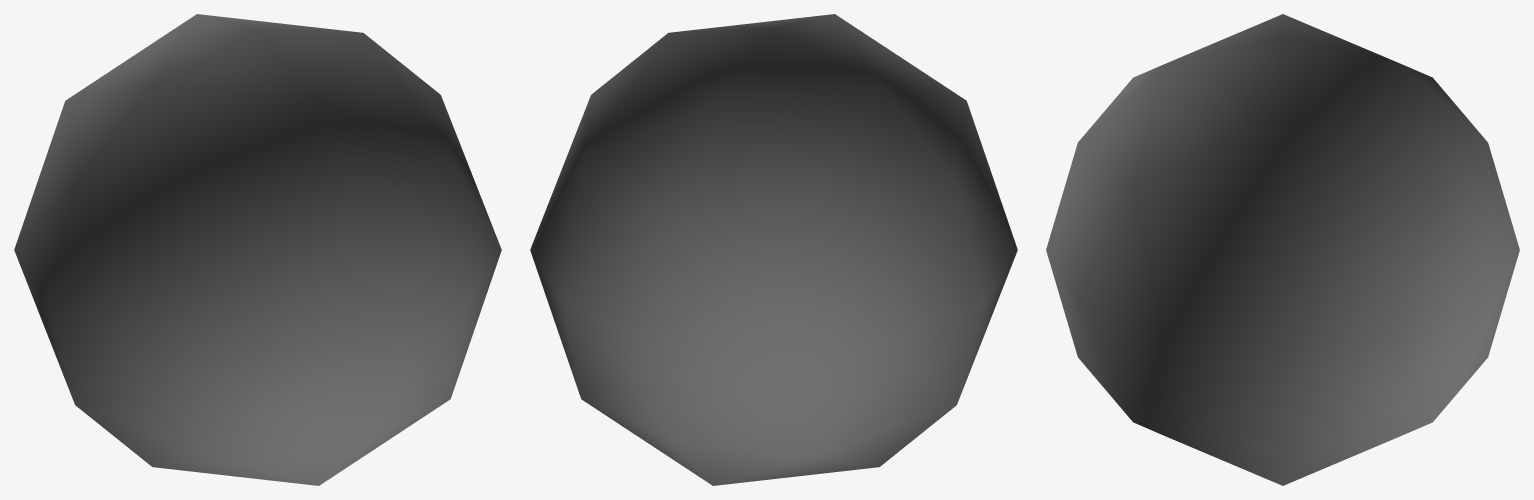
File: 3d_planet.glb
The picture shows the model from 3 angles, left to right: view 1: azimuth 30°, elevation 25°; view 2: azimuth 150°, elevation 25°; view 3: azimuth 270°, elevation 25°; orthographic projection. The views are drawn at different scales.
Visible parts, largest first — view 1: group_13; view 2: group_13; view 3: group_13.
Part boxes in pixels (<box>): group_13: <box>14,14,501,485</box>; group_13: <box>530,14,1017,485</box>; group_13: <box>1046,14,1519,485</box>.
Size of the model in its own units: 4096 by 4096 by 4096.
Materials: 1 (1 with a texture image).
